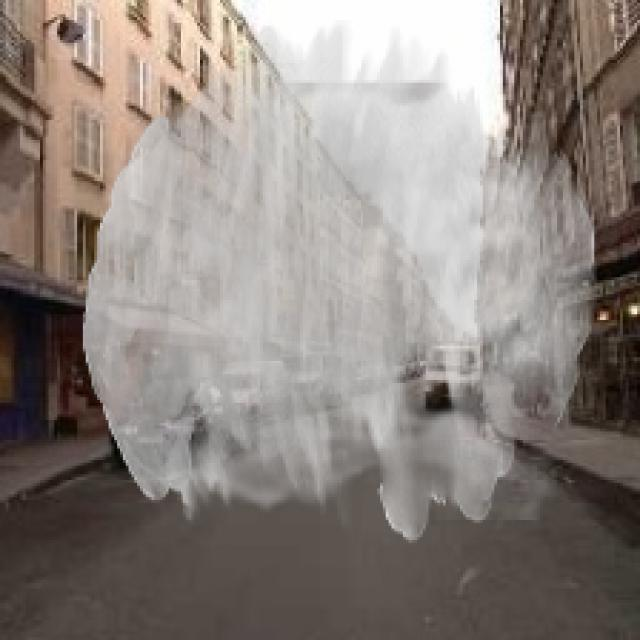smoke: (83, 20, 597, 543)
